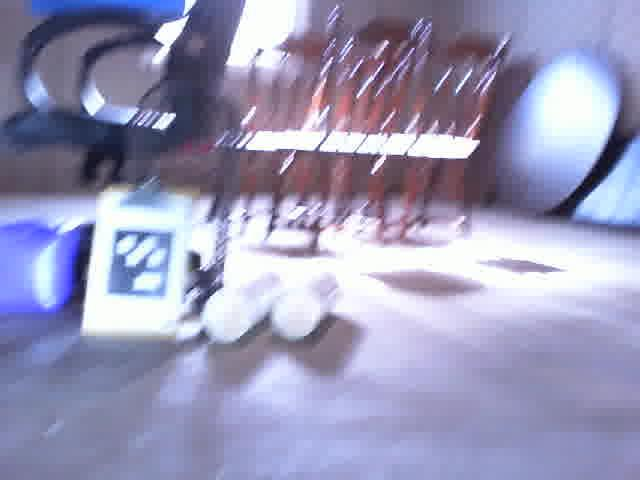coral: (203, 273, 284, 341), (273, 271, 341, 340)
